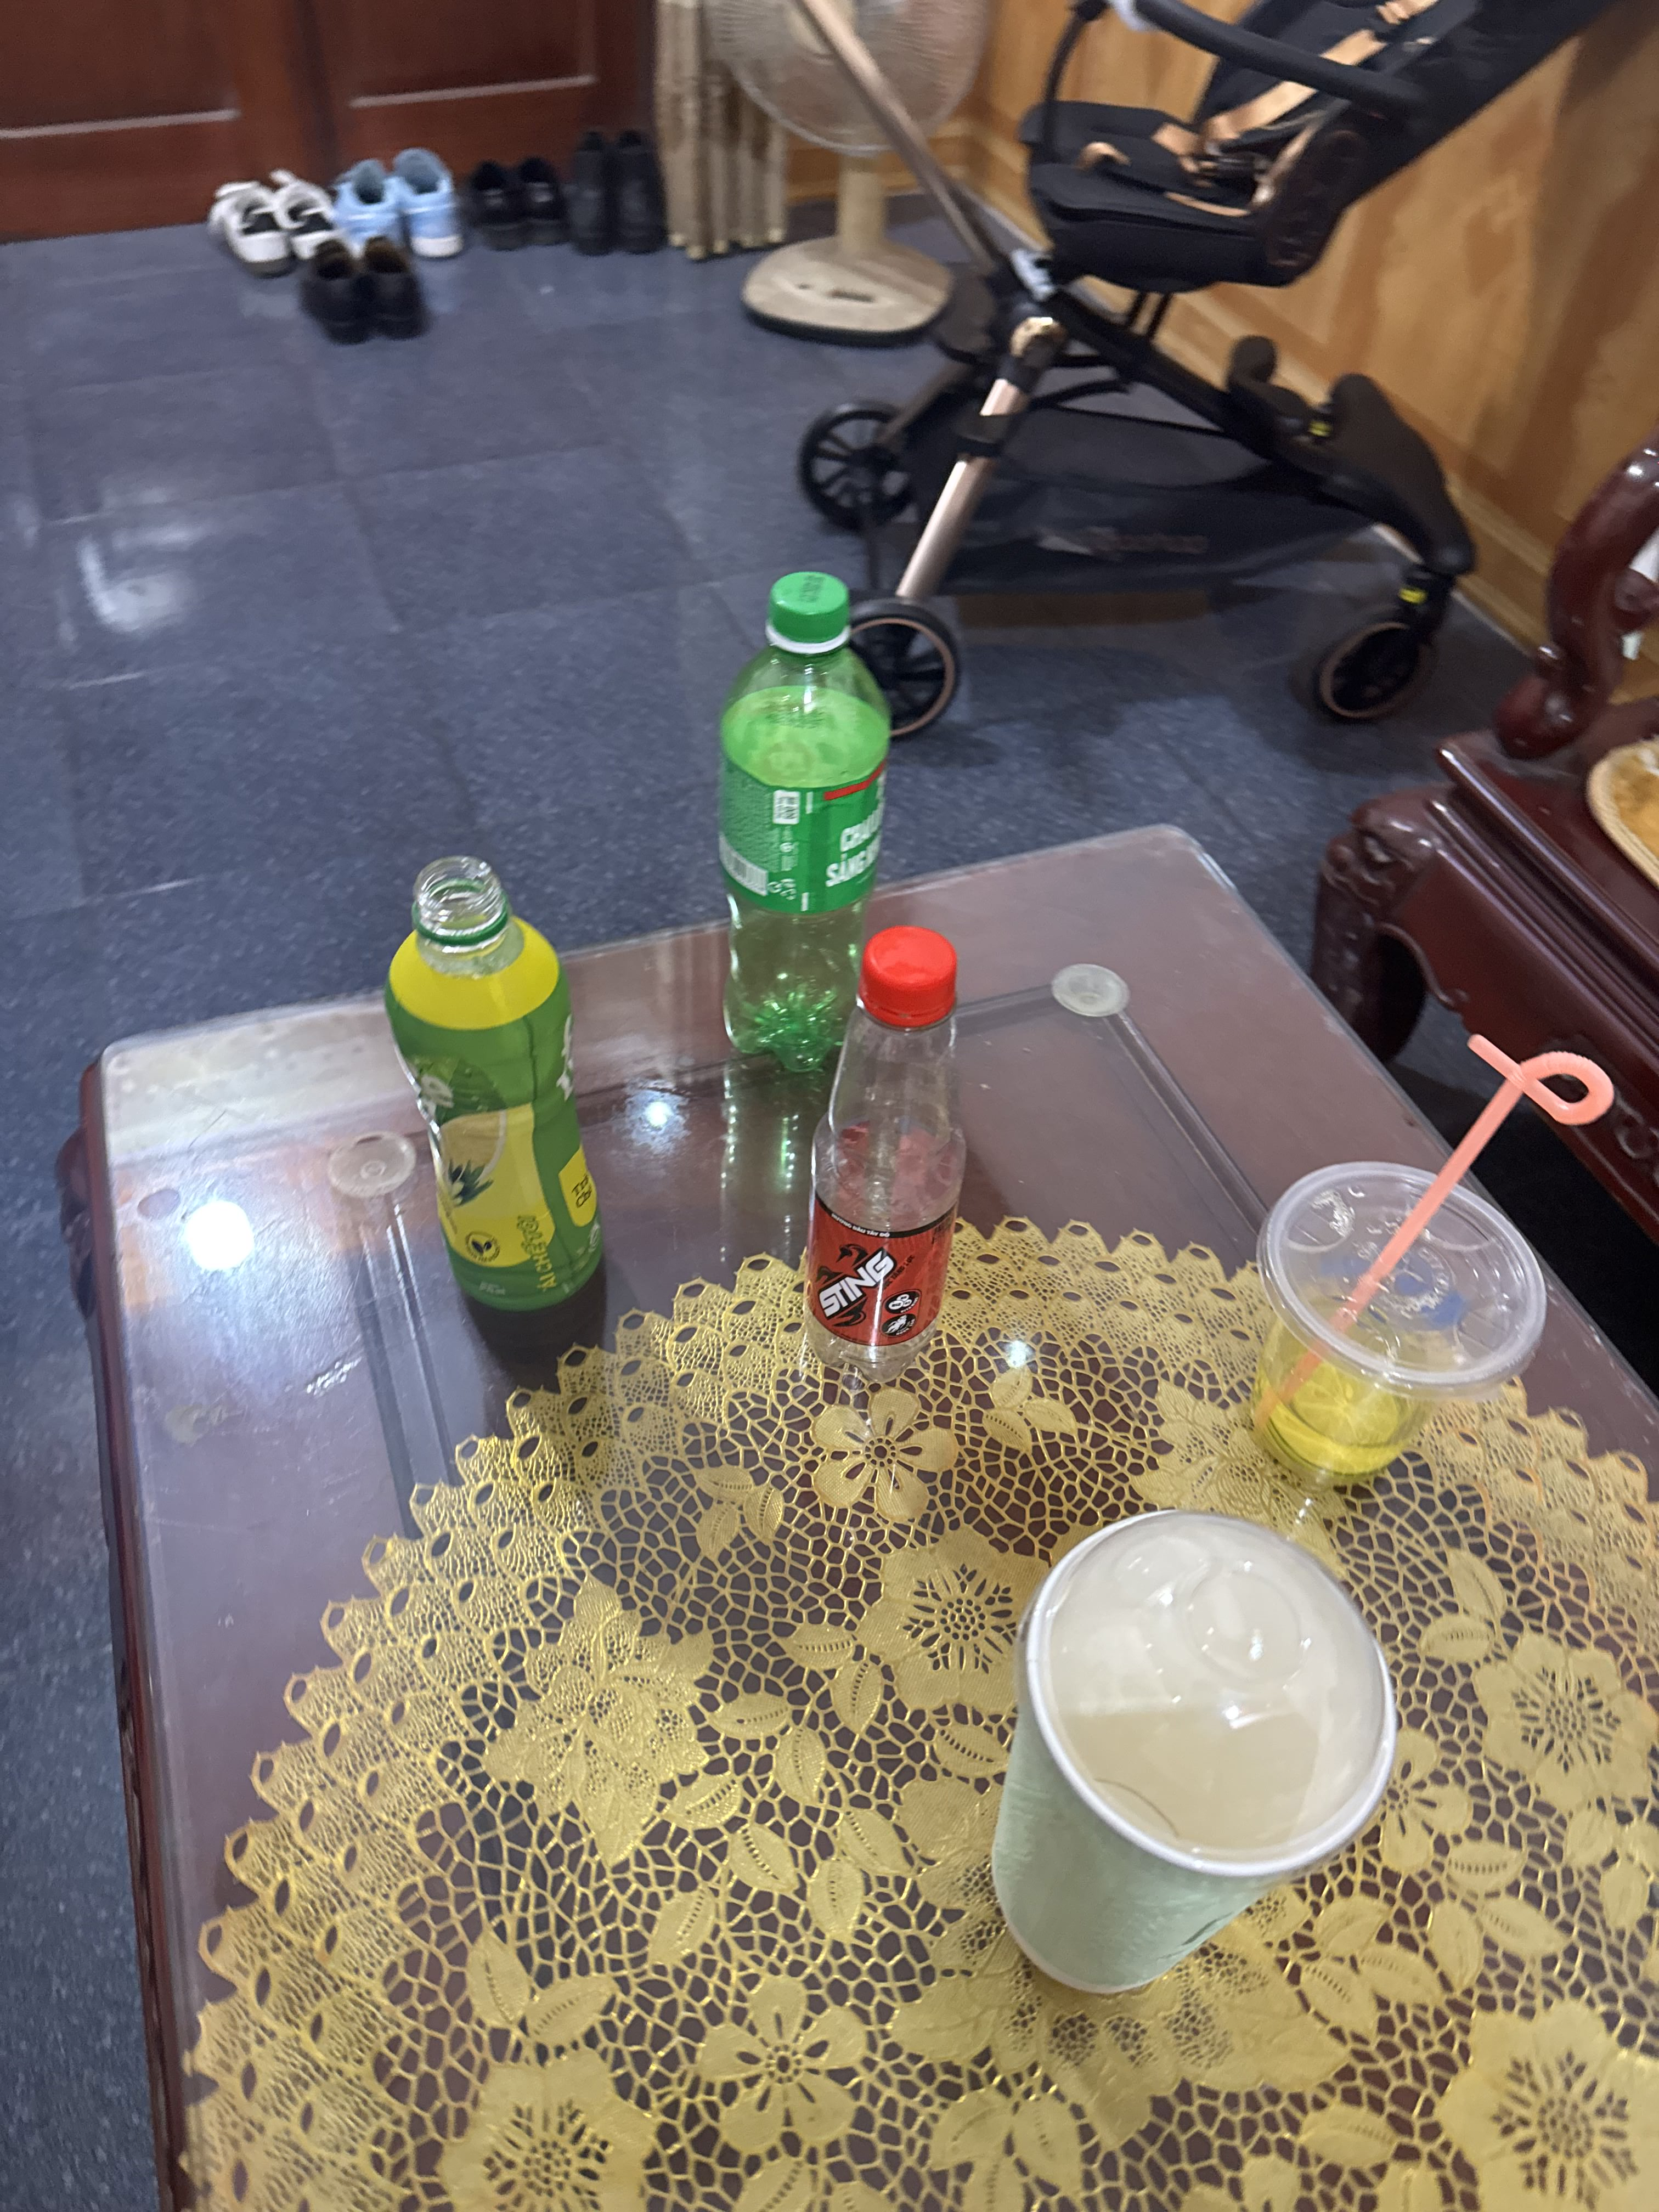2: (958, 1482, 1408, 2047), (1236, 1130, 1553, 1515)
bottle: (331, 813, 667, 1383), (676, 549, 924, 1106), (769, 920, 1016, 1425)
